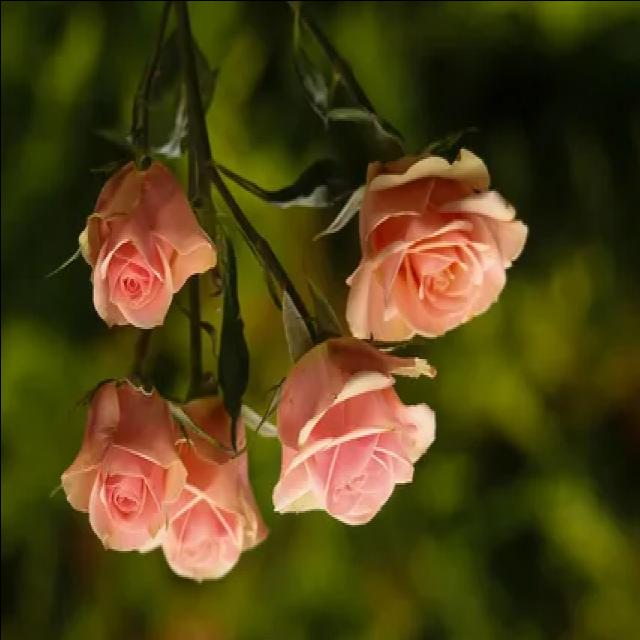rose: (316, 132, 534, 352), (61, 130, 220, 353)
